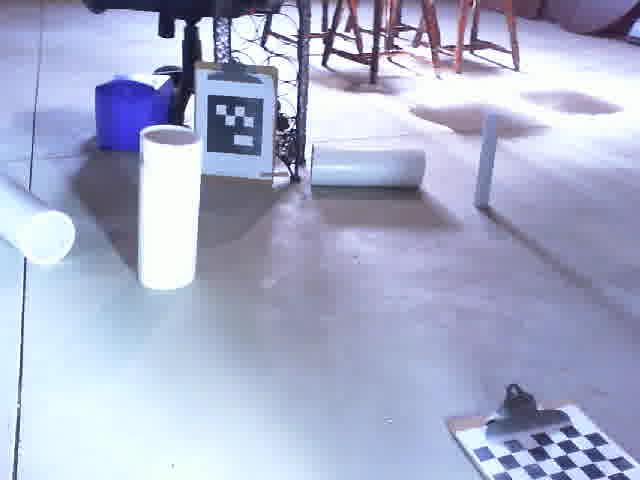coral: (137, 123, 205, 293), (0, 172, 80, 267), (310, 143, 430, 190)
